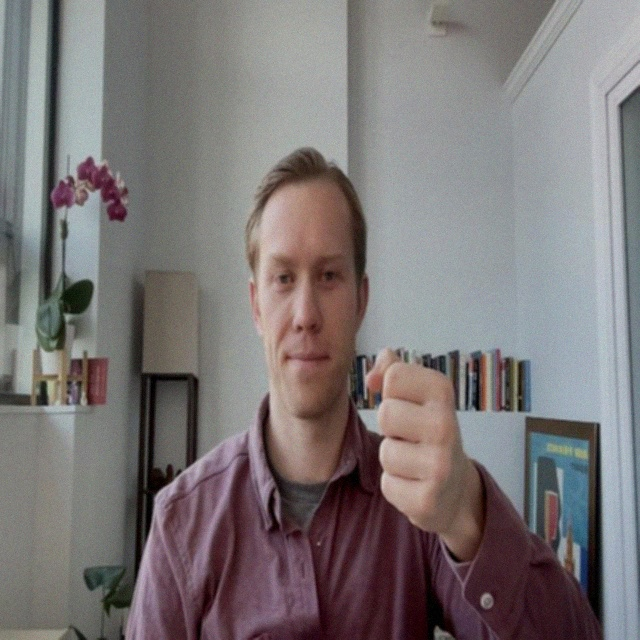Scissors: (363, 338, 464, 542)
